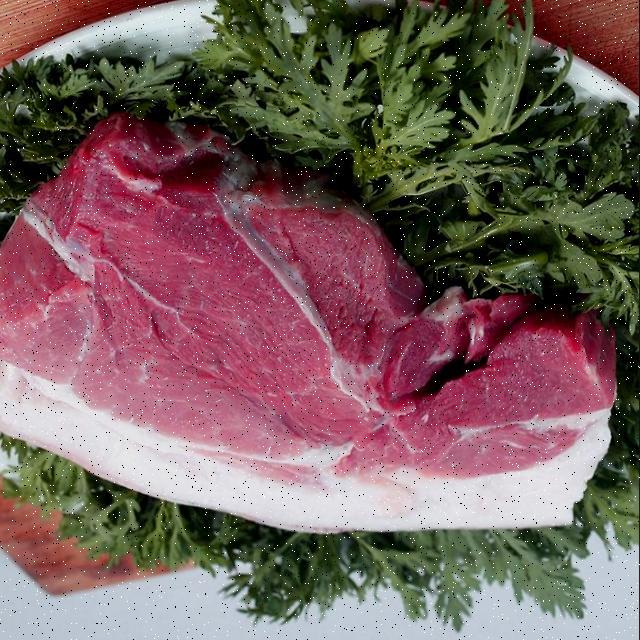pork: (9, 113, 620, 554)
